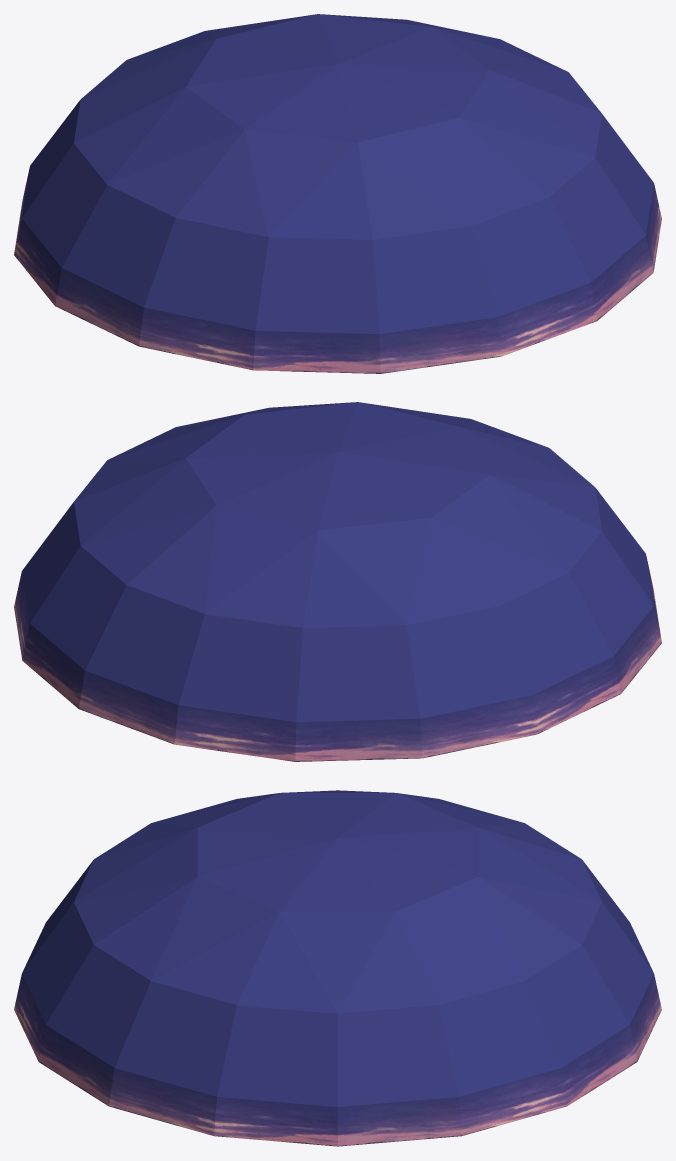
Rendered from Skybox3.obj.
3 views of the same model, one above another, from view 1: azimuth 30°, elevation 25°; view 2: azimuth 150°, elevation 25°; view 3: azimuth 270°, elevation 25° (orthographic).
Visible parts, largest first — view 1: Object_2; view 2: Object_2; view 3: Object_2.
Part boxes in pixels (bbox=[...]): Object_2: bbox=[14, 14, 661, 373]; Object_2: bbox=[14, 402, 661, 761]; Object_2: bbox=[14, 790, 661, 1146].
Bounding box in the file's own units: 100000 × 42720 × 100000.
